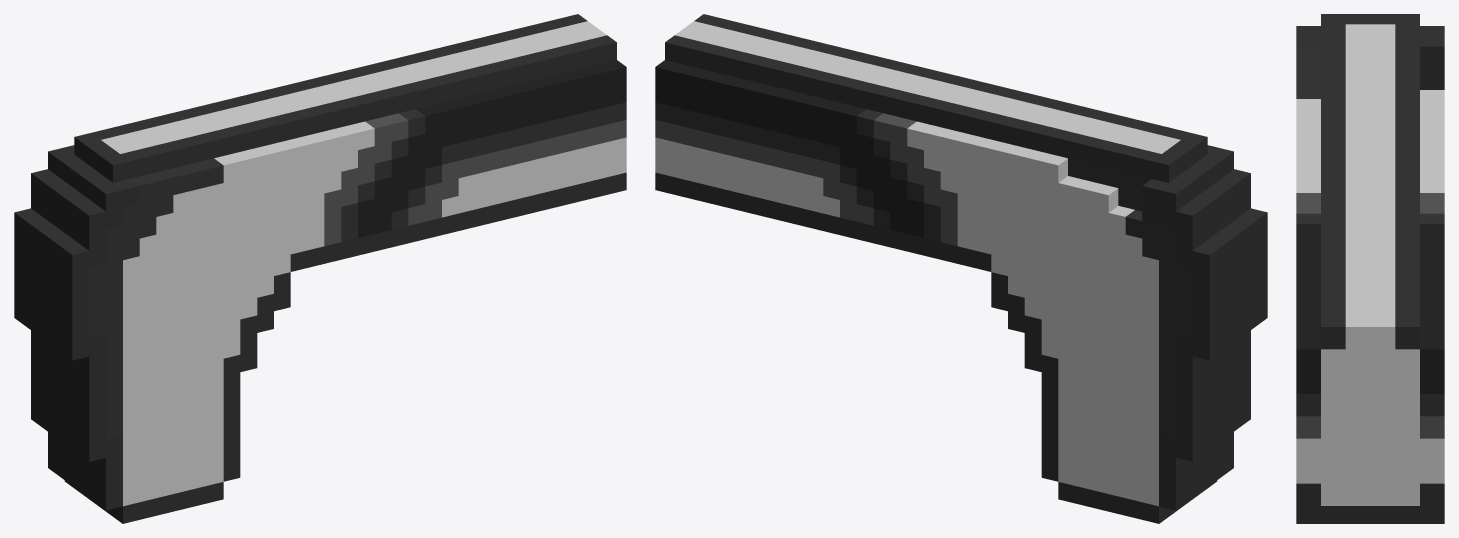
File: Punisher-3.obj
3 renders of one model, left to right at view 1: azimuth 30°, elevation 25°; view 2: azimuth 150°, elevation 25°; view 3: azimuth 270°, elevation 25°, orthographic. The views are drawn at different scales.
Size of the model in its own units: 3.3 by 2 by 0.6.
1 material, 1 textured.
